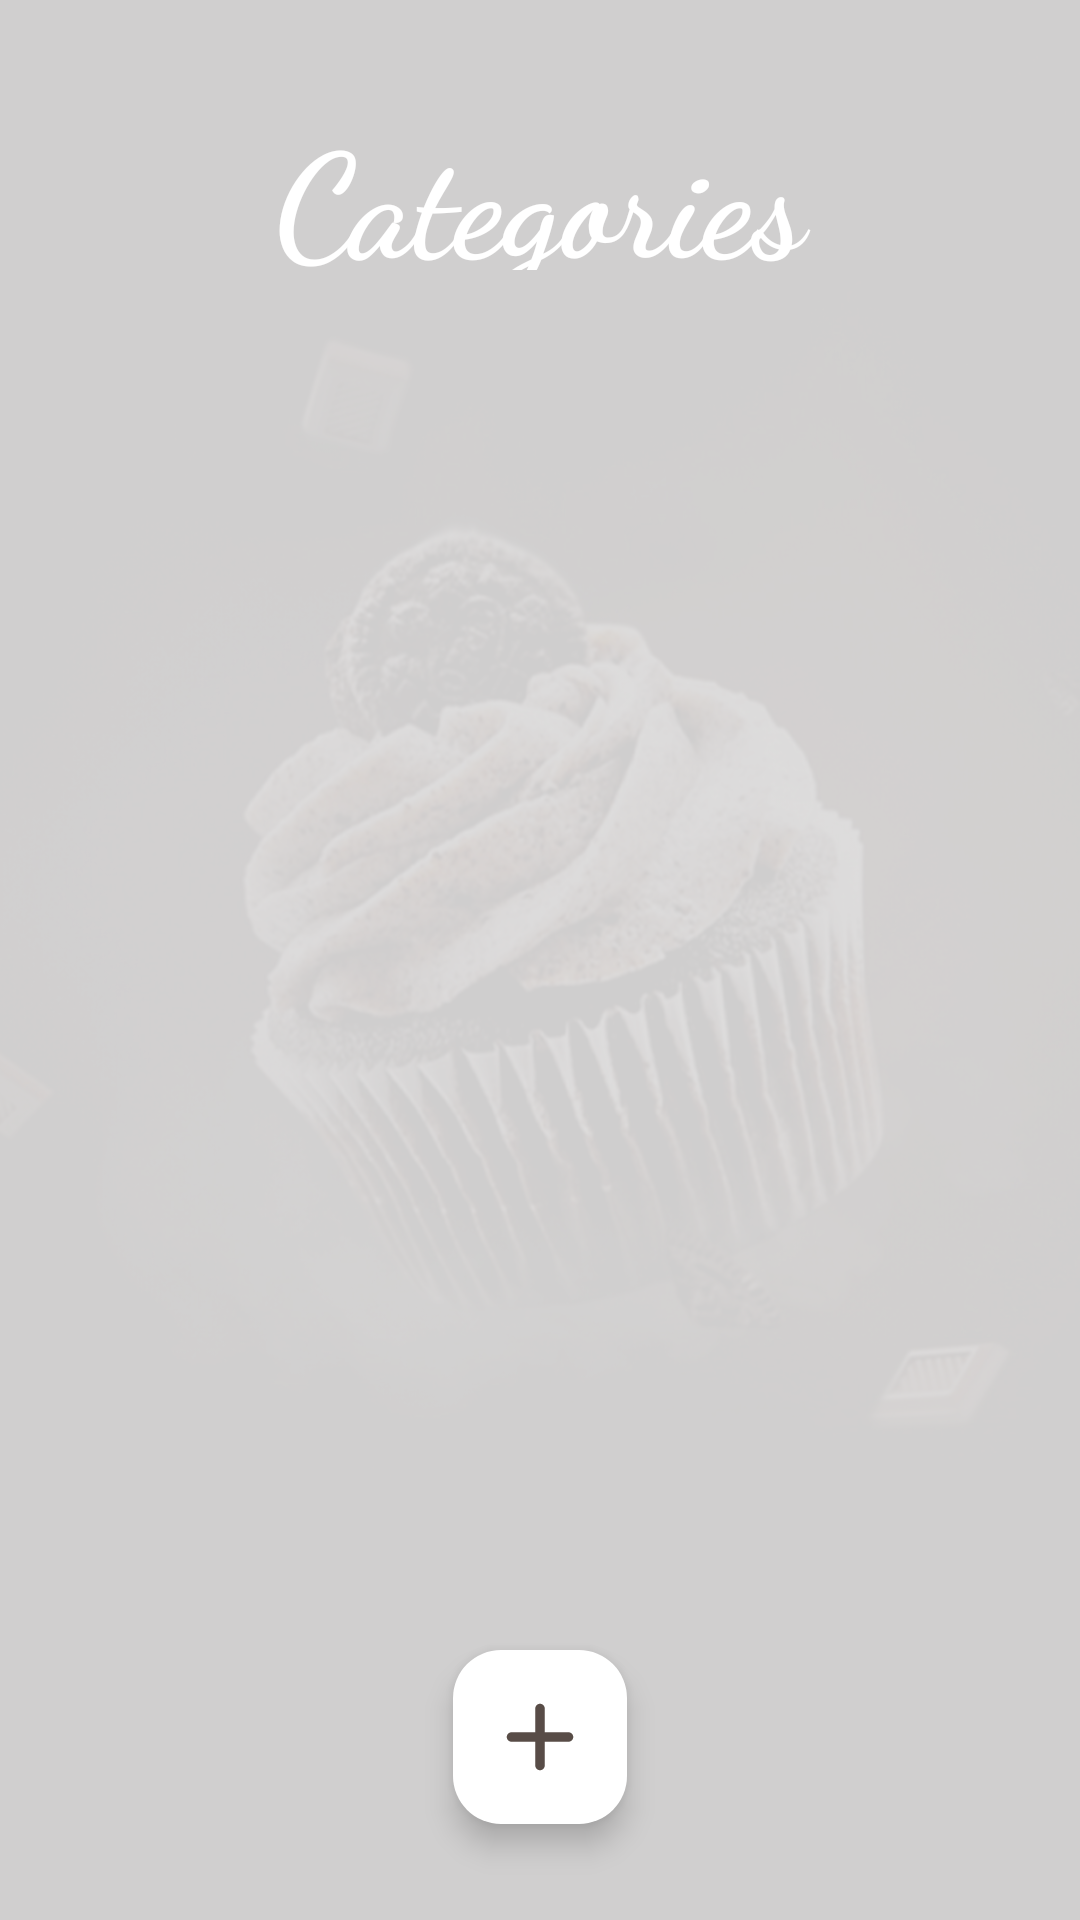

Icon click points for this 1080×1920 phone screenshot, format [x,y]:
add: [540,1737]
